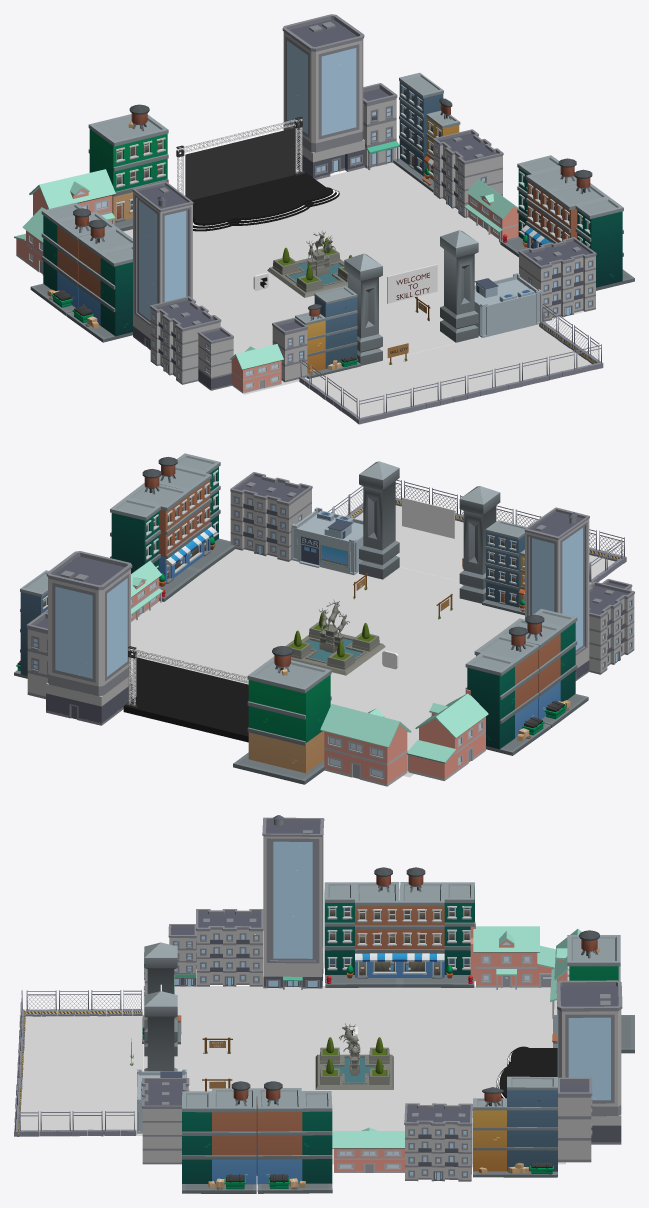
File: skillCity3animate.glb
3 views of the same model, one above another, from view 1: azimuth 30°, elevation 25°; view 2: azimuth 150°, elevation 25°; view 3: azimuth 270°, elevation 25° (orthographic). The views are drawn at different scales.
Parts seen in each view (by area): view 1: Plane, Plane.007, stage.001, skyscraperA, skyscraperD, building_D, building_G, building_G.003, large_buildingA, building_H.001, building_G.001, building_H (+15 smaller); view 2: Plane, skyscraperA, building_D, stage.001, skyscraperD, building_G.001, building_G.002, house_type12.003, large_buildingA, house_type08, building_G, building_G.003 (+11 smaller); view 3: Plane, Plane.007, skyscraperD, skyscraperA, building_G, building_H.001, building_G.001, building_G.002, building_G.003, large_buildingA.001, large_buildingA.002, house_type08 (+13 smaller).
Boxes of the visible parts, x1=… form: Plane: x1=123, y1=162, x2=584, y2=394; Plane.007: x1=307, y1=324, x2=591, y2=424; stage.001: x1=176, y1=116, x2=339, y2=231; skyscraperA: x1=282, y1=14, x2=364, y2=179; skyscraperD: x1=132, y1=181, x2=193, y2=349; building_D: x1=88, y1=104, x2=168, y2=231; building_G: x1=66, y1=219, x2=132, y2=342; building_G.003: x1=545, y1=169, x2=634, y2=290; large_buildingA: x1=518, y1=237, x2=596, y2=321; building_H.001: x1=393, y1=72, x2=460, y2=192; building_G.001: x1=30, y1=202, x2=117, y2=315; building_H: x1=295, y1=286, x2=360, y2=378; Plane: x1=131, y1=549, x2=524, y2=777; skyscraperA: x1=46, y1=551, x2=132, y2=725; building_D: x1=233, y1=646, x2=331, y2=784; stage.001: x1=123, y1=646, x2=248, y2=742; skyscraperD: x1=524, y1=507, x2=589, y2=680; building_G.001: x1=465, y1=626, x2=550, y2=755; building_G.002: x1=110, y1=469, x2=200, y2=601; house_type12.003: x1=320, y1=704, x2=411, y2=786; large_buildingA: x1=230, y1=472, x2=312, y2=561; house_type08: x1=407, y1=689, x2=488, y2=780; building_G: x1=498, y1=609, x2=588, y2=727; building_G.003: x1=158, y1=453, x2=235, y2=573; Plane: x1=143, y1=986, x2=565, y2=1164; Plane.007: x1=19, y1=1014, x2=143, y2=1135; skyscraperD: x1=262, y1=815, x2=324, y2=989; skyscraperA: x1=556, y1=980, x2=622, y2=1144; building_G: x1=324, y1=867, x2=399, y2=987; building_H.001: x1=473, y1=1076, x2=557, y2=1177; building_G.001: x1=399, y1=867, x2=474, y2=987; building_G.002: x1=257, y1=1081, x2=332, y2=1193; building_G.003: x1=182, y1=1081, x2=256, y2=1193; large_buildingA.001: x1=404, y1=1103, x2=472, y2=1181; large_buildingA.002: x1=196, y1=909, x2=263, y2=986; house_type08: x1=470, y1=922, x2=555, y2=989.
Bounding box in the file's own units: 66.09 × 21.08 × 73.53.
68 materials, 6 textured.
